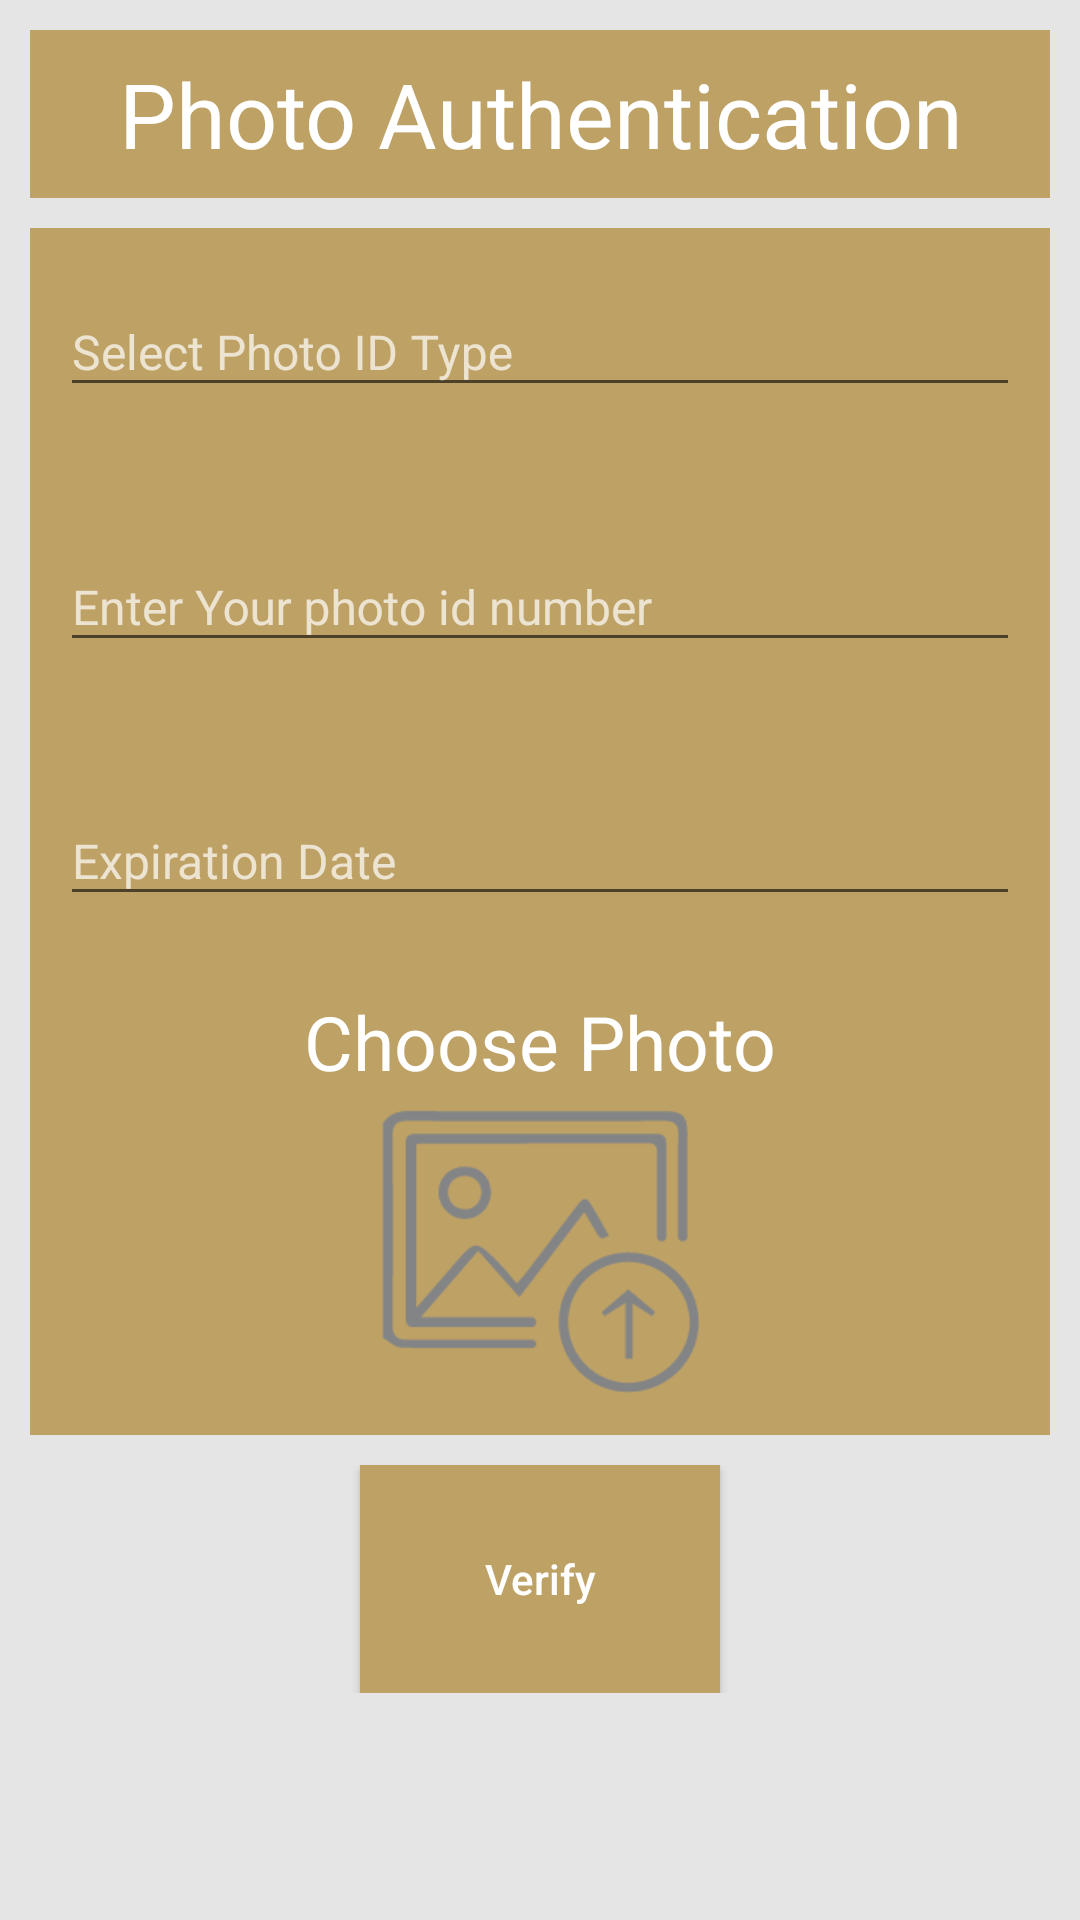

Icons on this 1080w x 1920h Android screen, each with the point to tap as (x=x, y=y):
upload: (x=541, y=1251)
